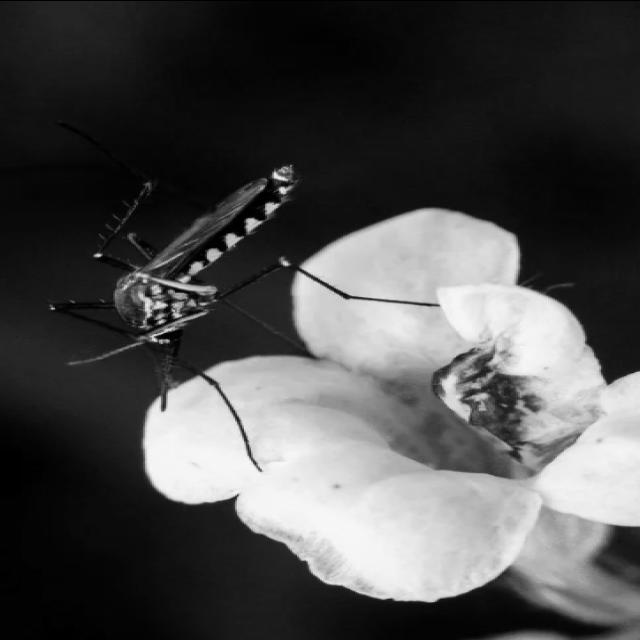Mosquito: (22, 132, 428, 428)
